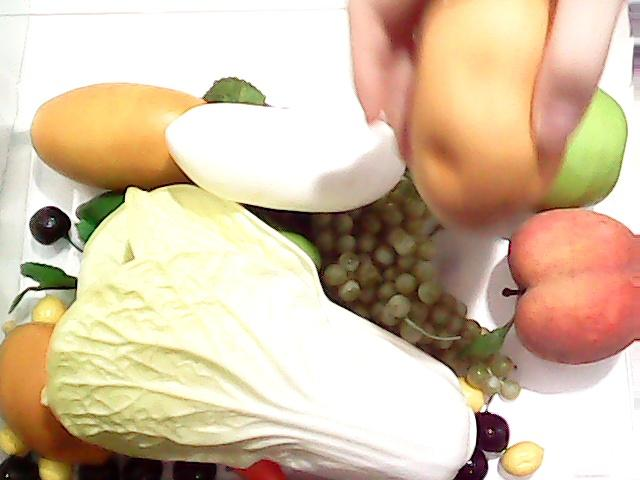apple: (516, 68, 628, 220)
carrot: (224, 455, 284, 477)
grape: (315, 178, 525, 402)
lemon: (0, 320, 102, 456)
mango: (19, 78, 264, 206)
napa cabbage: (32, 190, 486, 478)
peach: (500, 205, 640, 369)
pepper: (69, 183, 323, 283)
potato: (405, 0, 557, 244)
radish: (162, 96, 402, 214)
